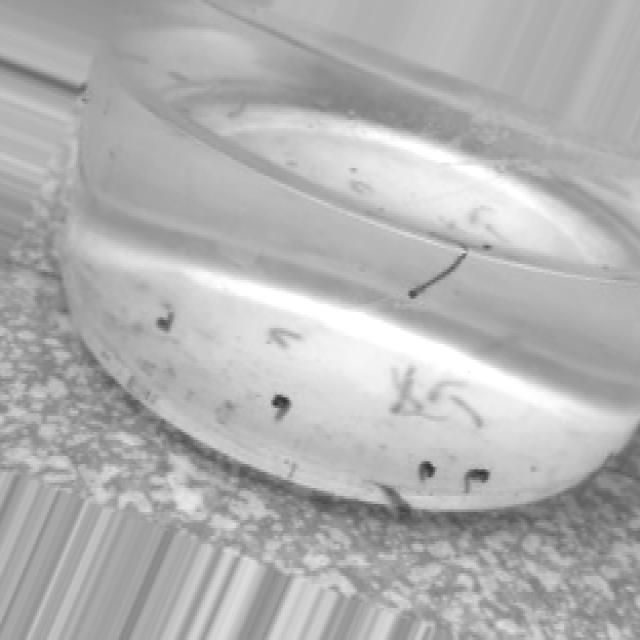larvas: (408, 252, 466, 300), (384, 359, 432, 414), (384, 361, 417, 421), (431, 228, 491, 253), (379, 478, 408, 512), (430, 374, 464, 399), (469, 202, 495, 230), (456, 393, 479, 424), (268, 394, 293, 421), (463, 468, 489, 492), (269, 326, 297, 346), (412, 463, 437, 480), (159, 304, 177, 326)
